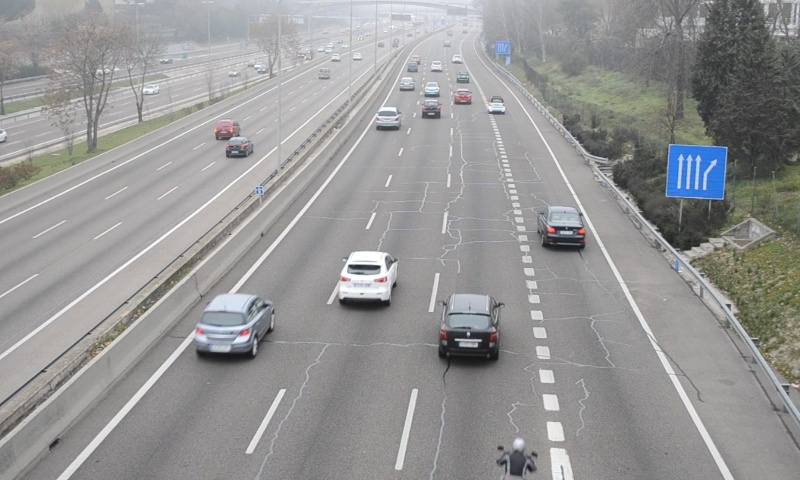car: (194, 295, 273, 358), (437, 293, 498, 361), (338, 251, 396, 306), (537, 205, 588, 251), (375, 107, 402, 131), (486, 94, 506, 114), (422, 98, 441, 118), (454, 88, 472, 105), (398, 76, 416, 92), (424, 81, 440, 98)
motorcycle: (492, 436, 539, 478)
